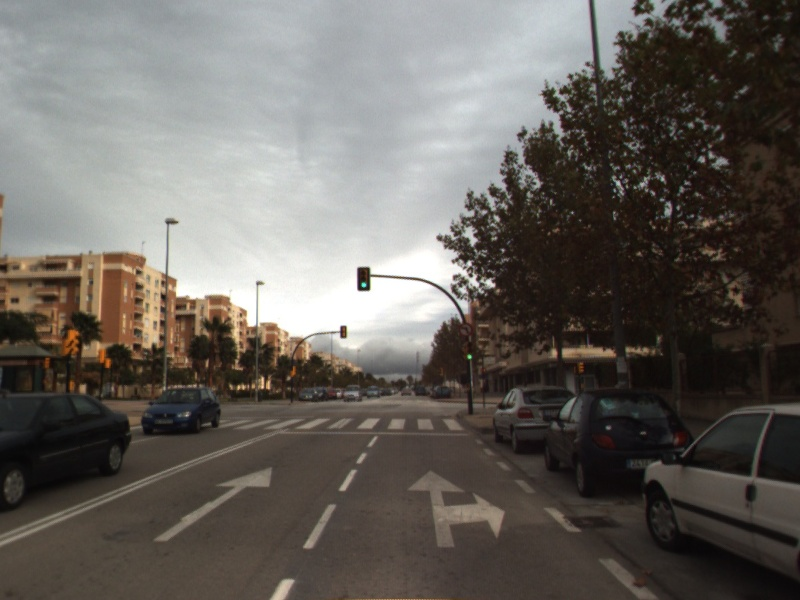STRAIGHT: (150, 465, 273, 543)
STRAIGHT_RIGHT: (405, 467, 507, 550)
